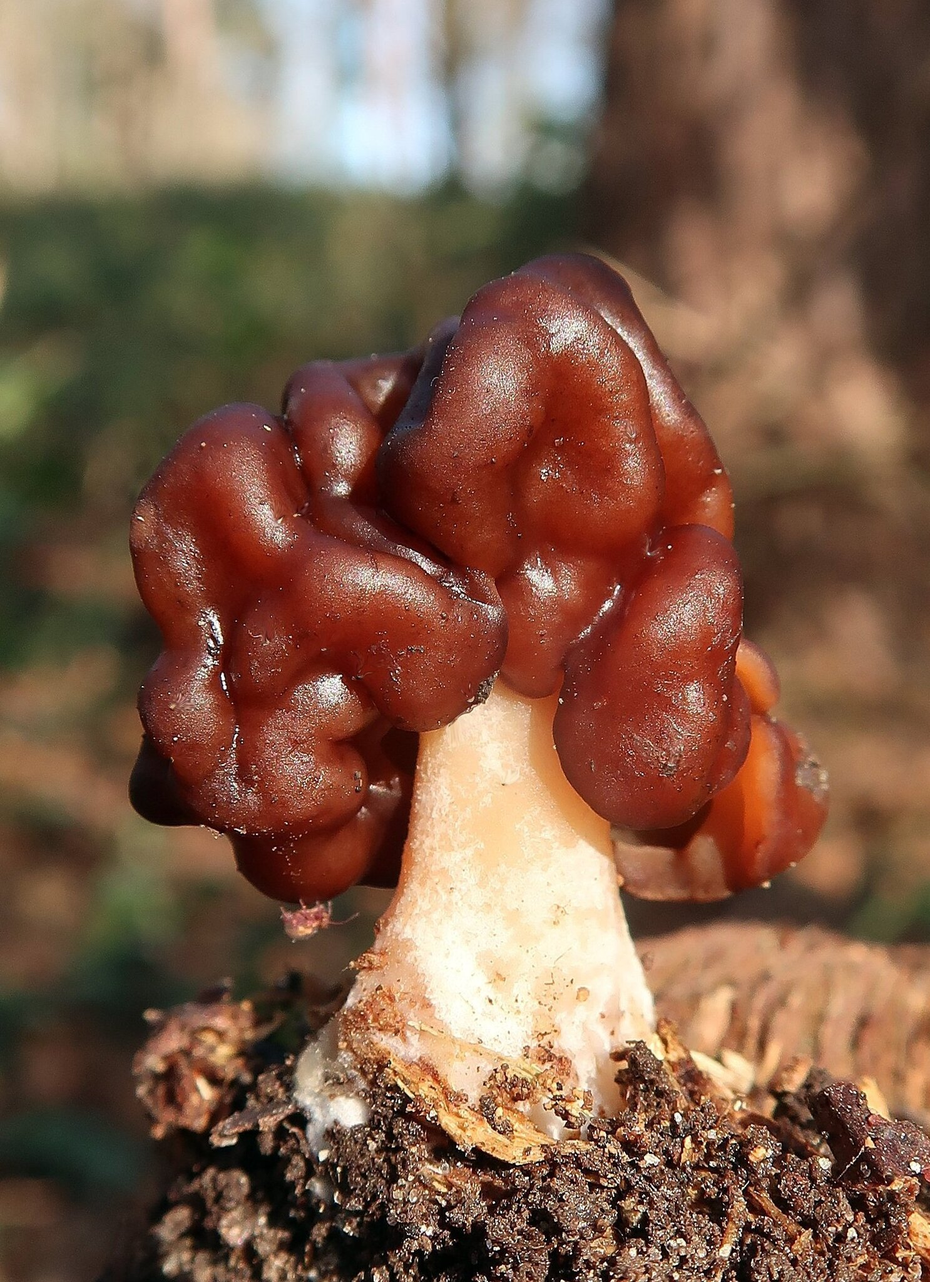cap: (131, 255, 823, 900)
stem: (348, 682, 655, 1110)
